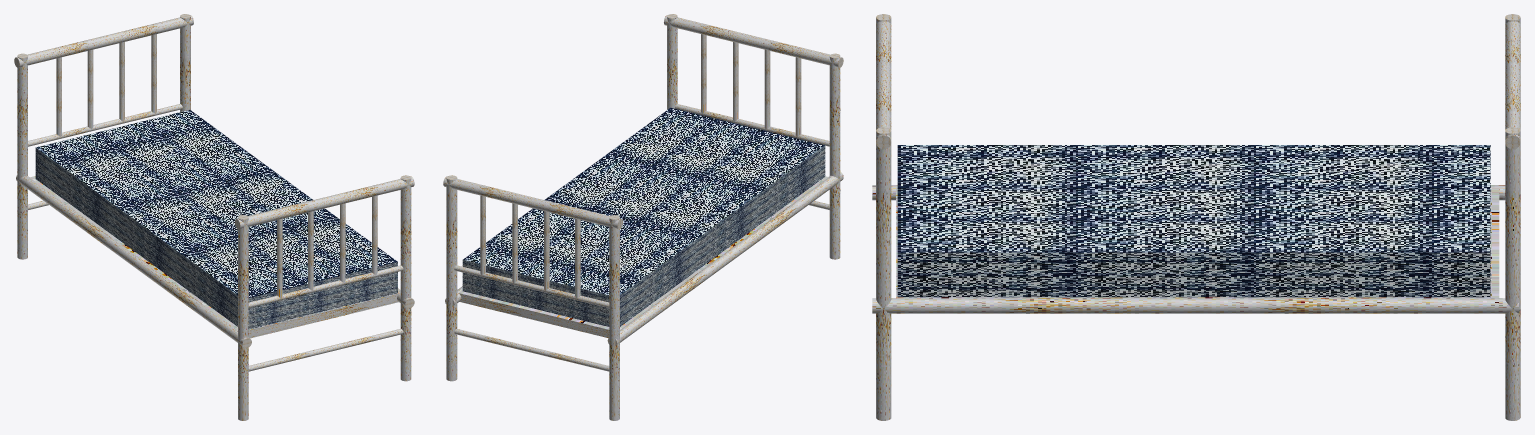
File: bed.glb
The picture shows the model from 3 angles, left to right: view 1: azimuth 30°, elevation 25°; view 2: azimuth 150°, elevation 25°; view 3: azimuth 270°, elevation 25°; orthographic projection. The views are drawn at different scales.
Visible parts, largest first — view 1: Куб.001, Куб; view 2: Куб.001, Куб; view 3: Куб.001, Куб.
Part boxes in pixels (left/top/right/bottom): Куб.001: left=35, top=110, right=397, bottom=329; Куб: left=14, top=14, right=414, bottom=420; Куб.001: left=462, top=107, right=825, bottom=326; Куб: left=443, top=14, right=843, bottom=420; Куб.001: left=897, top=145, right=1490, bottom=297; Куб: left=872, top=14, right=1520, bottom=420.
Bounding box in the file's own units: 5.51 × 6.08 × 12.44.
Materials: 2 (2 with a texture image).
